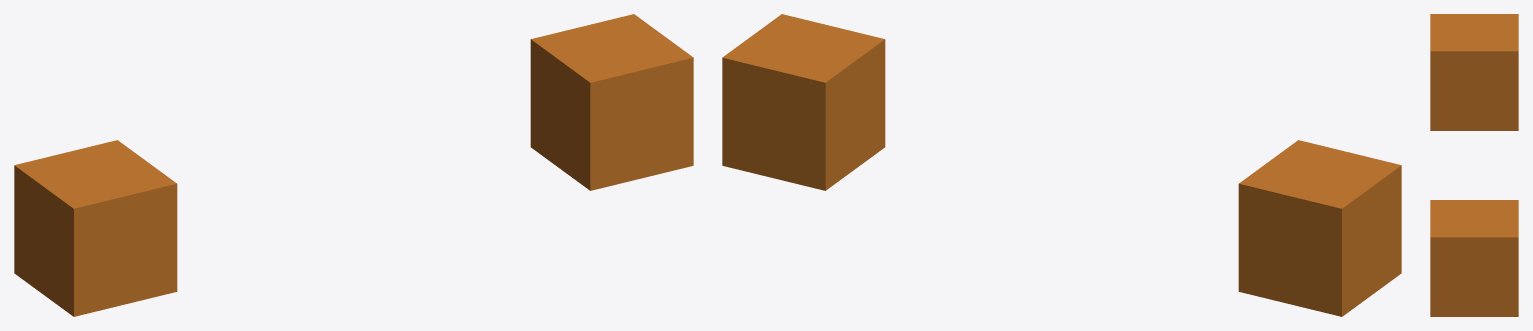
File: bad_fragmented.glb
3 views of the same model, side by side, from view 1: azimuth 30°, elevation 25°; view 2: azimuth 150°, elevation 25°; view 3: azimuth 270°, elevation 25° (orthographic). The views are drawn at different scales.
Bounding box in the file's own units: 6 × 1 × 1.
1 material, 1 textured.
